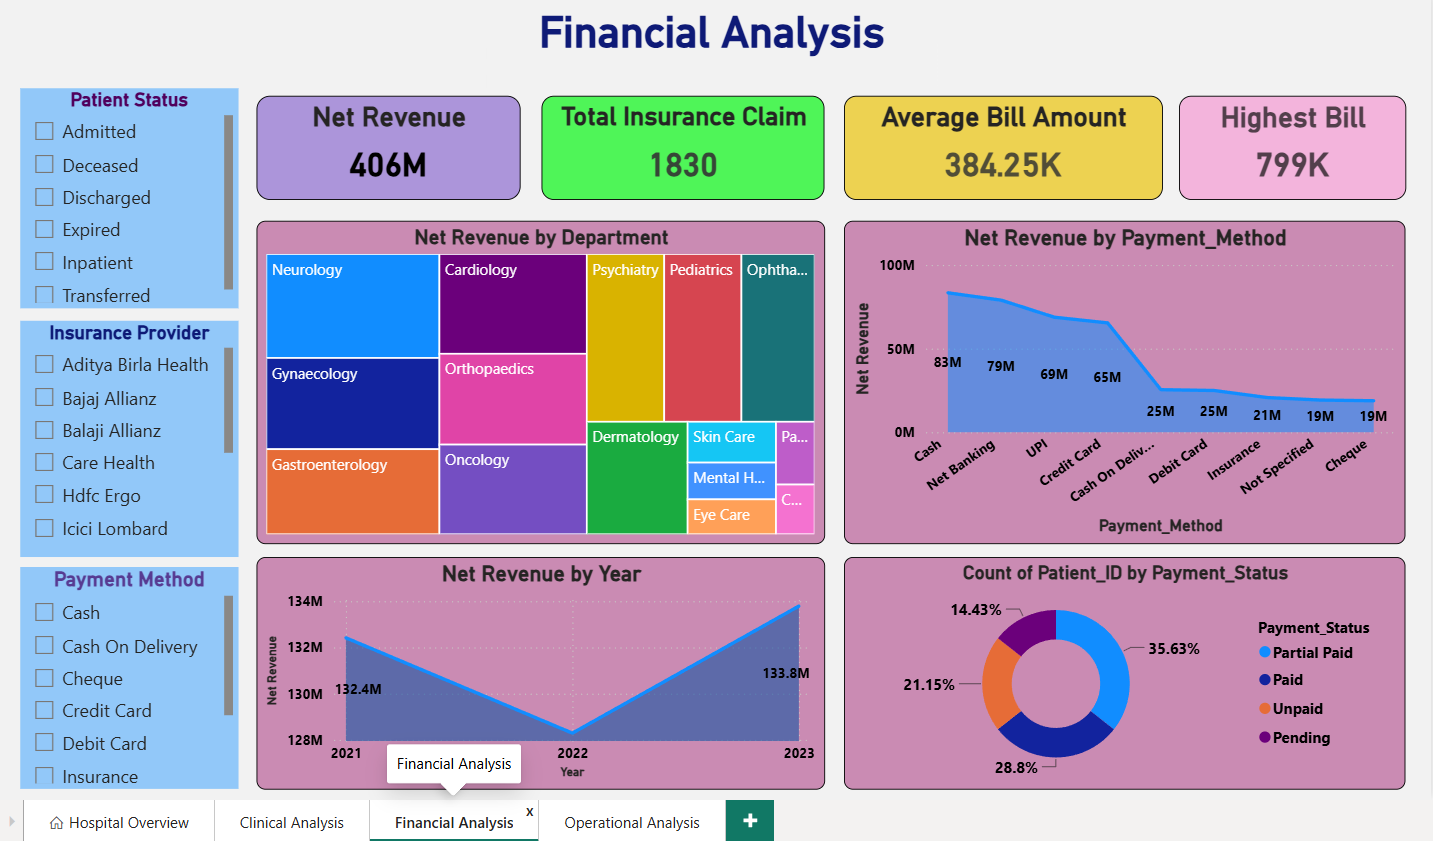

Layout of this report page (visuals, bound fields, positions):
{"tool":"powerbi","page":{"name":"Financial Analysis","canvas":[1280,720],"ordinal":2},"visuals":[{"type":"slicer","title":"Patient Status","fields":{"Values":["Raw_Patient_Data.Patient_Status"]},"box":[23.5,86.2,194.3,195.9],"z":0},{"type":"slicer","title":"Insurance Provider","fields":{"Values":["Raw_Patient_Data.Insurance_Provider"]},"box":[23.5,293.1,194.3,210],"z":1000},{"type":"slicer","title":"Payment Method","fields":{"Values":["Raw_Patient_Data.Payment_Method"]},"box":[23.5,512.5,194.3,197.5],"z":2000},{"type":"card","title":"Net Revenue","fields":{"Values":["Raw_Patient_Data.Net Revenue"]},"box":[233.5,92.5,235.1,92.5],"z":3000},{"type":"card","title":"Highest Bill","fields":{"Values":["Raw_Patient_Data.Highest Bill"]},"box":[1054.8,92.5,202.2,92.5],"z":4000},{"type":"card","title":"Average Bill Amount","fields":{"Values":["Raw_Patient_Data.Average Bill Amount"]},"box":[757,92.5,283.7,92.5],"z":5000},{"type":"card","title":"Total Insurance Claim","fields":{"Values":["Raw_Patient_Data.Total Insurance Claim"]},"box":[487.4,92.5,252.3,92.5],"z":6000},{"type":"textbox","box":[255.6,293.5,384,86.8],"z":7000},{"type":"treemap","fields":{"Group":["Raw_Patient_Data.Department"],"Values":["Raw_Patient_Data.Net Revenue"]},"box":[233.5,203.7,506.2,288.4],"z":8000},{"type":"stackedAreaChart","fields":{"Category":["Raw_Patient_Data.Payment_Method"],"Y":["Raw_Patient_Data.Net Revenue"]},"box":[757,203.7,499.9,288.4],"z":9000},{"type":"stackedAreaChart","fields":{"Category":["Raw_Patient_Data.Admission_Date.Variation.Date Hierarchy.Year","Raw_Patient_Data.Admission_Date.Variation.Date Hierarchy.Quarter","Raw_Patient_Data.Admission_Date.Variation.Date Hierarchy.Month","Raw_Patient_Data.Admission_Date.Variation.Date Hierarchy.Day","Raw_Patient_Data.Department"],"Y":["Raw_Patient_Data.Net Revenue"]},"box":[233.5,503.1,506.2,206.9],"z":10000},{"type":"donutChart","fields":{"Category":["Raw_Patient_Data.Payment_Status"],"Y":["CountNonNull(Raw_Patient_Data.Patient_ID)"]},"box":[757,503.1,499.9,206.9],"z":11000},{"type":"textbox","title":"Financial Analysis","box":[438.6,15.7,402.8,58],"z":12000}]}

Visuals, with their boxes on the page's 1280x720 design canvas (x1, y1, x2, y2). These are canvas units, not pixel positions in the 1433x841 screenshot, which may show the page scaled, cropped or inside an application window:
"Patient Status" slicer: rect(24, 86, 218, 282)
"Insurance Provider" slicer: rect(24, 293, 218, 503)
"Payment Method" slicer: rect(24, 512, 218, 710)
"Net Revenue" card: rect(234, 92, 469, 185)
"Highest Bill" card: rect(1055, 92, 1257, 185)
"Average Bill Amount" card: rect(757, 92, 1041, 185)
"Total Insurance Claim" card: rect(487, 92, 740, 185)
textbox: rect(256, 294, 640, 380)
treemap - Raw_Patient_Data.Department x Raw_Patient_Data.Net Revenue: rect(234, 204, 740, 492)
stackedAreaChart - Raw_Patient_Data.Payment_Method x Raw_Patient_Data.Net Revenue: rect(757, 204, 1257, 492)
stackedAreaChart - Raw_Patient_Data.Admission_Date.Variation.Date Hierarchy.Year x Raw_Patient_Data.Admission_Date.Variation.Date Hierarchy.Quarter: rect(234, 503, 740, 710)
donutChart - Raw_Patient_Data.Payment_Status x CountNonNull(Raw_Patient_Data.Patient_ID): rect(757, 503, 1257, 710)
"Financial Analysis" textbox: rect(439, 16, 841, 74)
